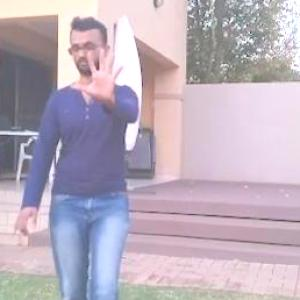follow_hand: (70, 44, 127, 102)
